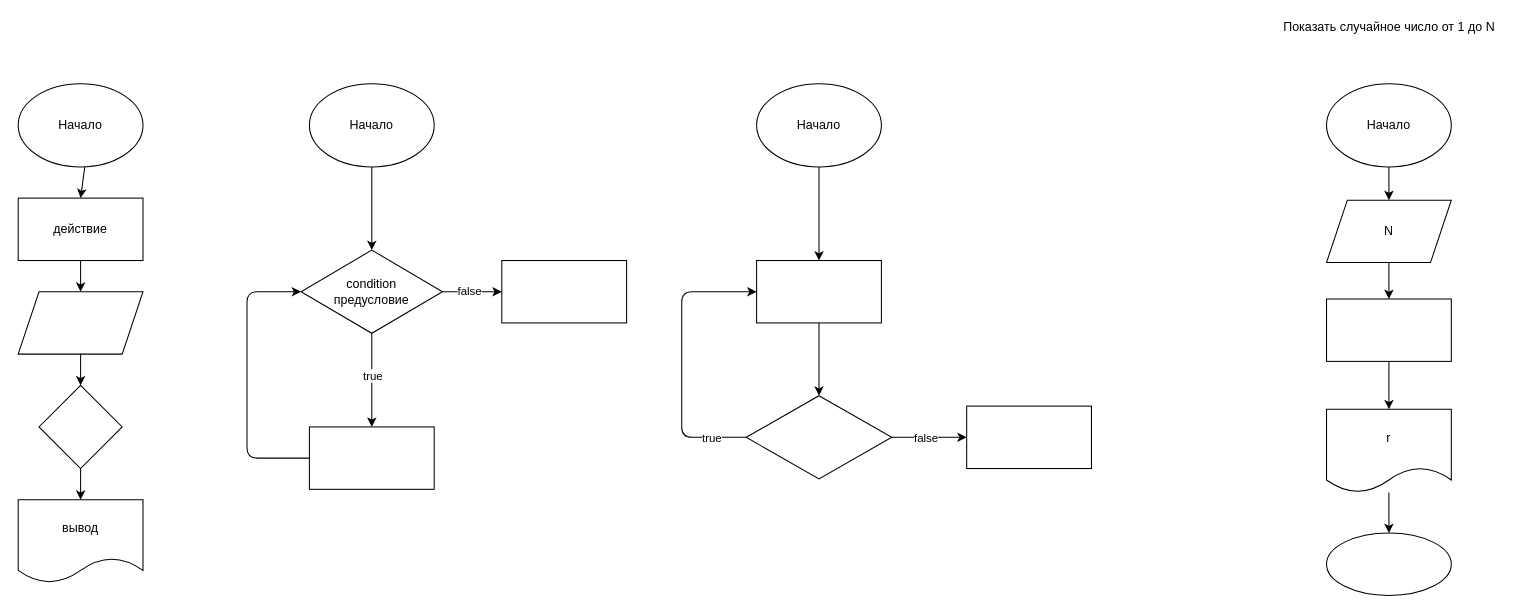
This 1520x614 diagram has some shape labels left out. Each missing label, with the box of its shape:
condition постусловие: (745, 395, 892, 479)
r = random(1,N): (1325, 298, 1451, 361)
ввод данных: (17, 291, 143, 354)
конец: (1325, 532, 1451, 595)
условие: (38, 384, 122, 469)
